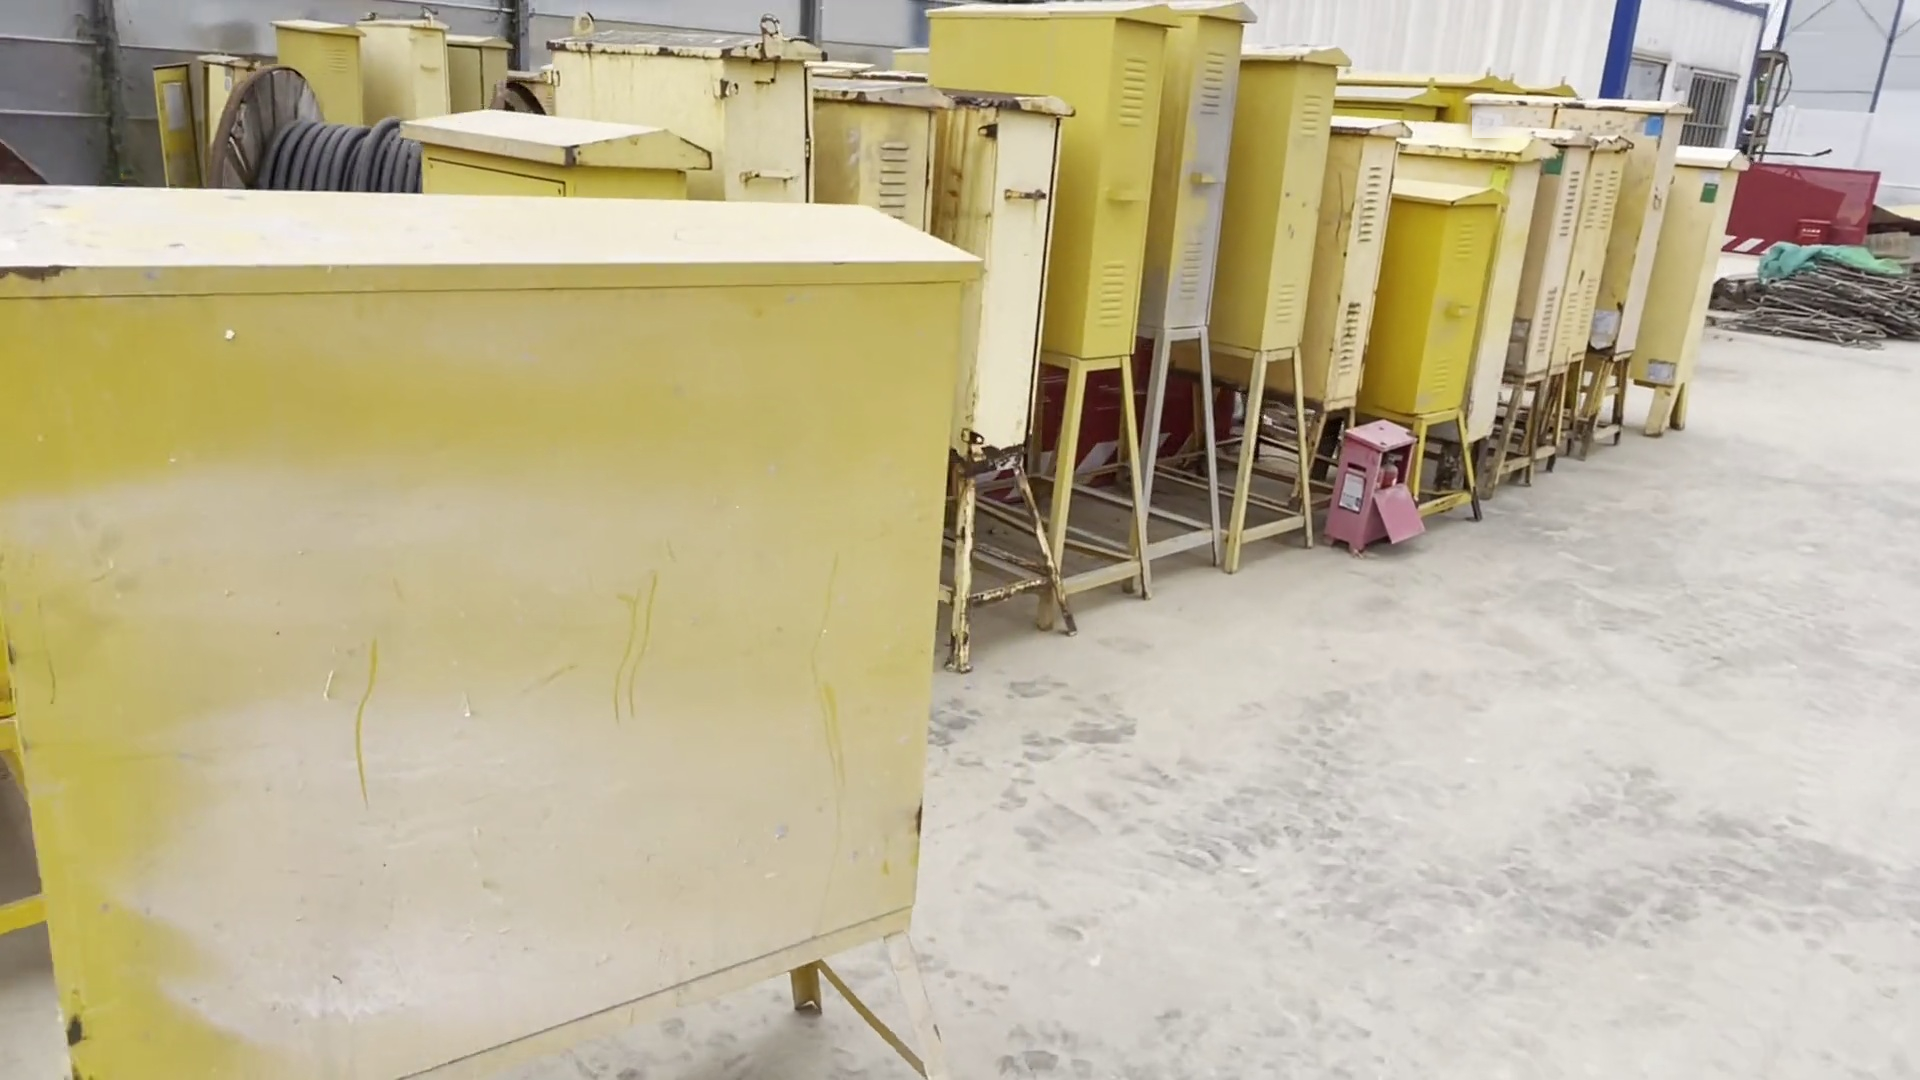ebox: (3, 196, 1009, 1080), (927, 8, 1151, 603), (945, 83, 1097, 670), (1131, 7, 1263, 593), (1224, 36, 1360, 572), (546, 18, 829, 195), (1407, 131, 1540, 463), (1630, 152, 1772, 448), (1304, 119, 1407, 502), (1495, 131, 1588, 498), (415, 98, 737, 198), (1387, 185, 1482, 520), (1534, 138, 1619, 469), (822, 63, 945, 198), (269, 3, 365, 129), (367, 8, 458, 129), (448, 22, 518, 108)
